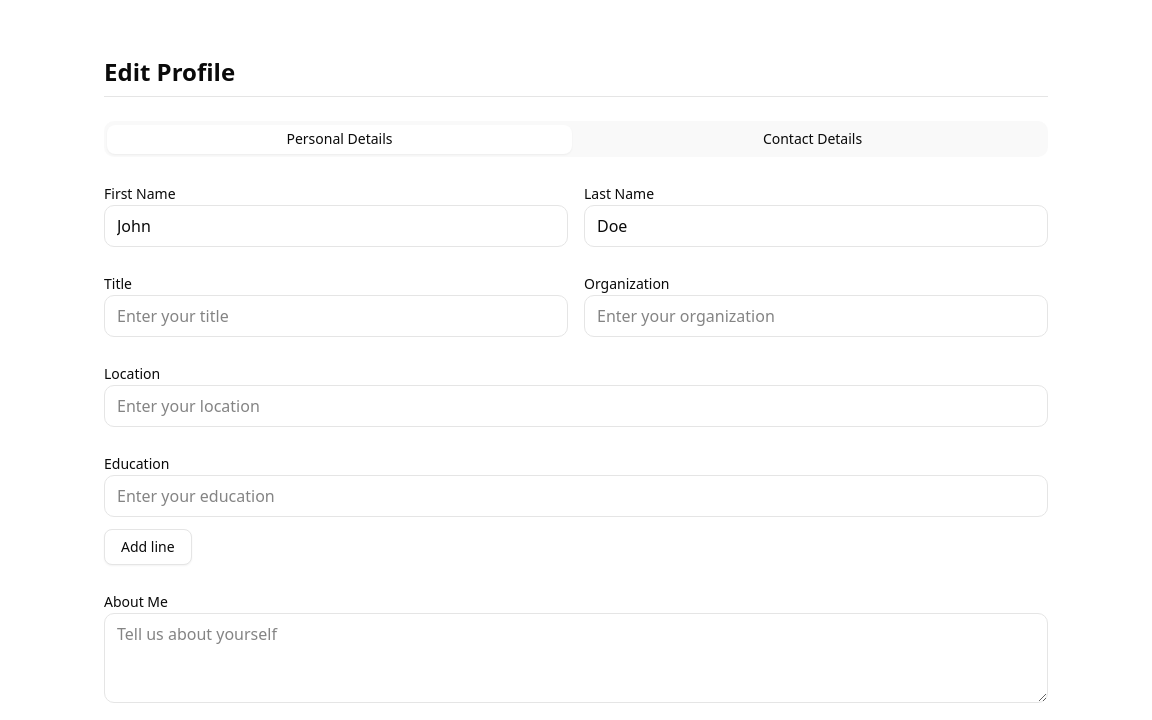
Test: EditUserProfile Component › Social Profiles with social_profiles Array › populates social media fields from social_profiles array
Click the tab "Contact Details": [812, 139] box [580,124,1045,154]
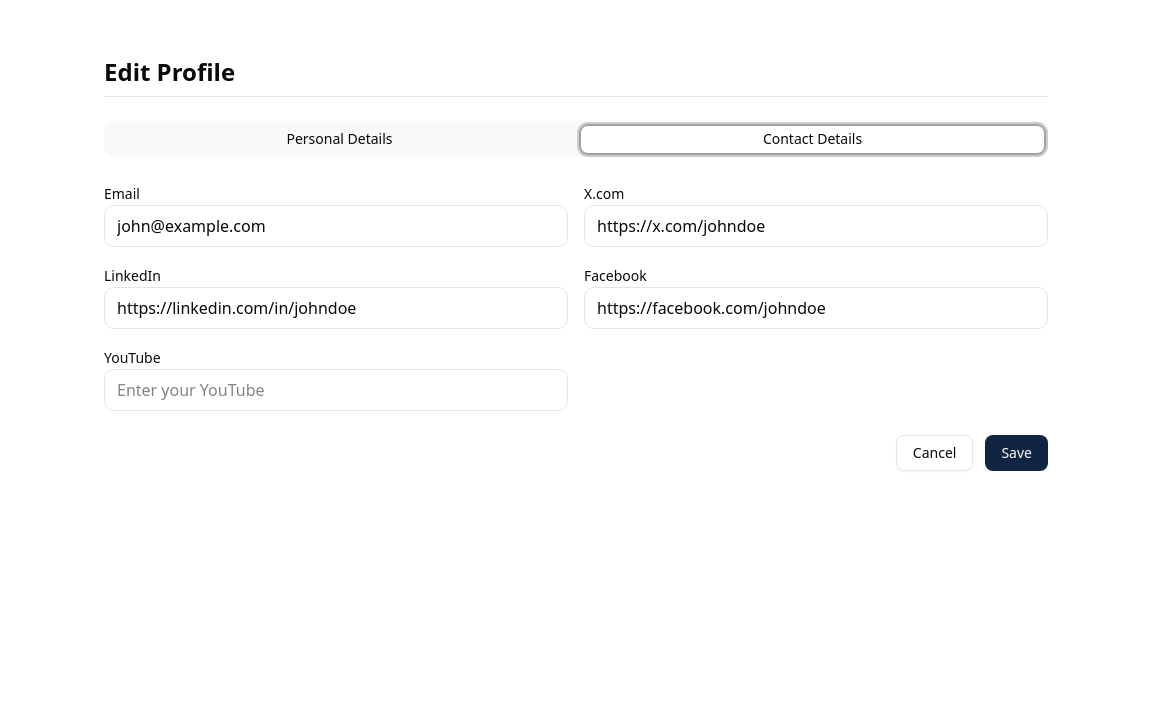
Expected: the field with placeholder "Enter your email" holds "john@example.com", [104,205,568,247]
Expected: the field with placeholder "Enter your X.com" holds "https://x.com/johndoe", [584,205,1048,247]
Expected: the field with placeholder "Enter your LinkedIn" holds "https://linkedin.com/in/johndoe", [104,287,568,329]
